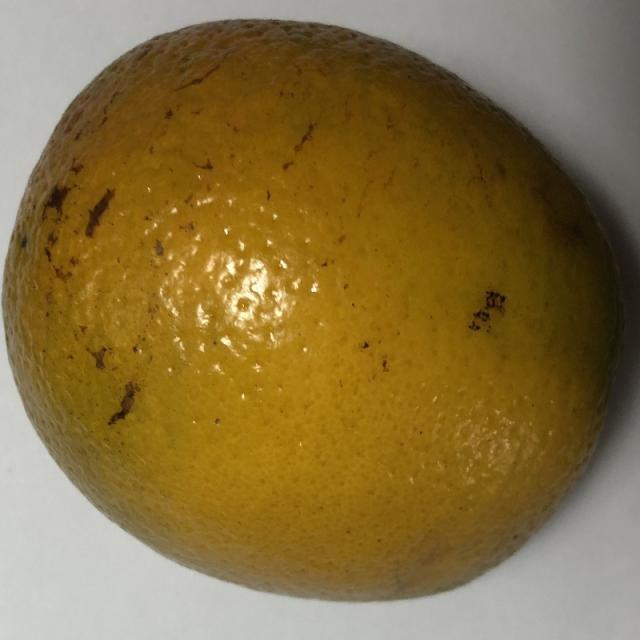blackspot: (0, 2, 632, 639)
